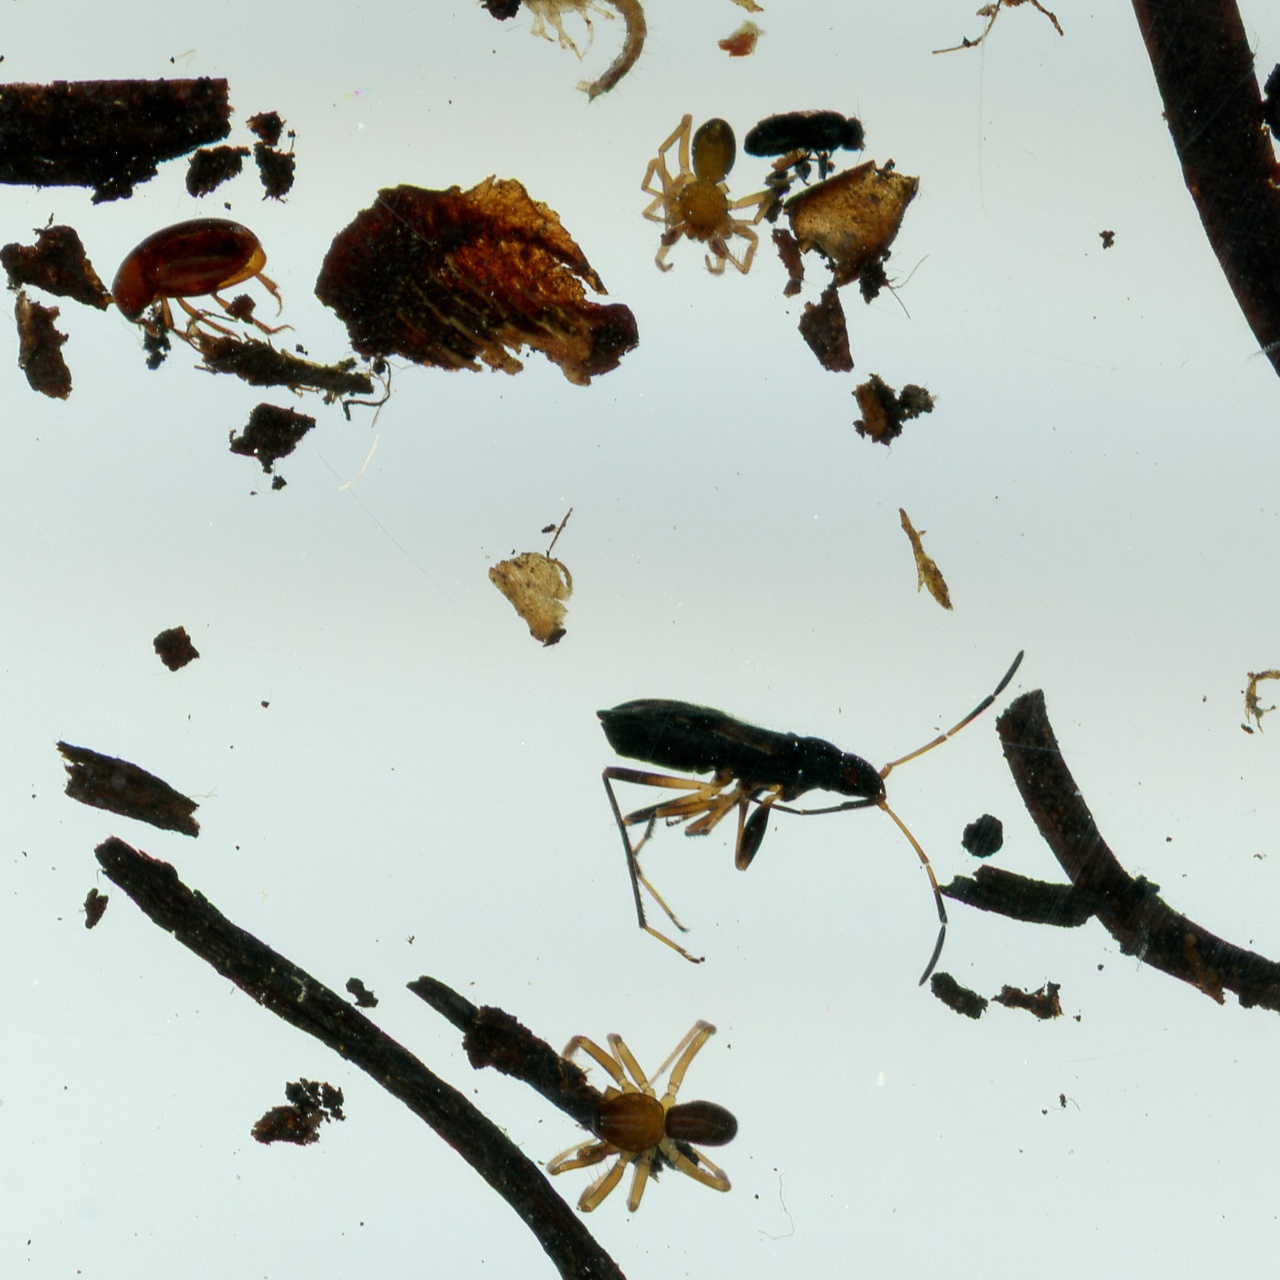arthropod: (594, 642, 1029, 982), (549, 1016, 738, 1212), (110, 215, 294, 345), (640, 111, 772, 280), (461, 0, 658, 107), (743, 109, 873, 169)
